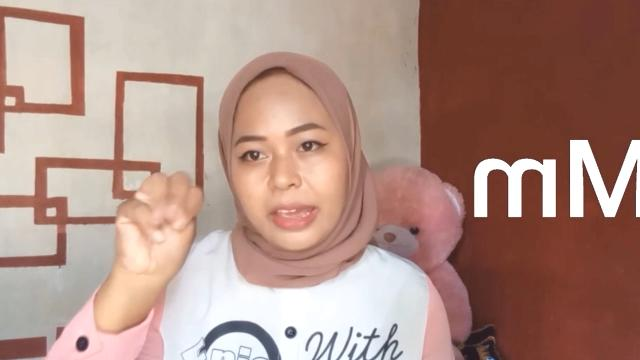M: (111, 168, 205, 276)
